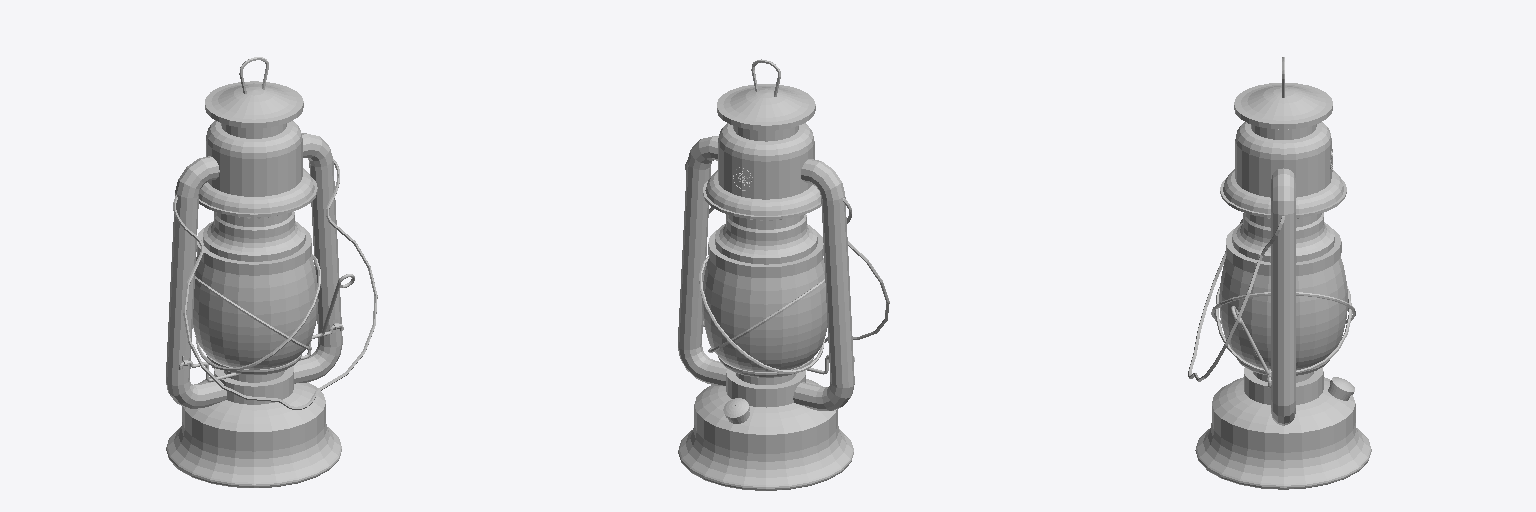
Rendered from Lampiao.obj.
3 renders of one model, left to right at view 1: azimuth 30°, elevation 25°; view 2: azimuth 150°, elevation 25°; view 3: azimuth 270°, elevation 25°, orthographic.
Parts seen in each view (by area): view 1: Mesh49 Group11 Component_3__17_1 Model, Mesh14 Group2 Component_3__17_1 Model, Mesh15 Group2 Component_3__17_1 Model, Mesh44 Group10 Component_3__17_1 Model, Mesh20 Group3 Component_3__17_1 Model; view 2: Mesh49 Group11 Component_3__17_1 Model, Mesh14 Group2 Component_3__17_1 Model, Mesh15 Group2 Component_3__17_1 Model, Mesh20 Group3 Component_3__17_1 Model, Mesh44 Group10 Component_3__17_1 Model, Mesh27 Group4 Component_3__17_1 Model; view 3: Mesh49 Group11 Component_3__17_1 Model, Mesh15 Group2 Component_3__17_1 Model, Mesh44 Group10 Component_3__17_1 Model, Mesh21 Group3 Component_3__17_1 Model.
Part boxes in pixels (x1,y1,x2,y2): Mesh49 Group11 Component_3__17_1 Model: (166,81,341,487); Mesh14 Group2 Component_3__17_1 Model: (166,156,226,408); Mesh15 Group2 Component_3__17_1 Model: (293,133,342,383); Mesh44 Group10 Component_3__17_1 Model: (173,159,377,409); Mesh20 Group3 Component_3__17_1 Model: (195,254,320,370); Mesh49 Group11 Component_3__17_1 Model: (678,84,853,490); Mesh14 Group2 Component_3__17_1 Model: (793,159,854,410); Mesh15 Group2 Component_3__17_1 Model: (678,136,726,385); Mesh20 Group3 Component_3__17_1 Model: (699,256,824,373); Mesh44 Group10 Component_3__17_1 Model: (685,162,889,342); Mesh27 Group4 Component_3__17_1 Model: (723,398,749,423); Mesh49 Group11 Component_3__17_1 Model: (1195,83,1371,489); Mesh15 Group2 Component_3__17_1 Model: (1271,168,1295,425); Mesh44 Group10 Component_3__17_1 Model: (1188,216,1284,381); Mesh21 Group3 Component_3__17_1 Model: (1215,286,1351,373).
Bounding box in the file's own units: 0.5013 × 0.9967 × 0.4211.